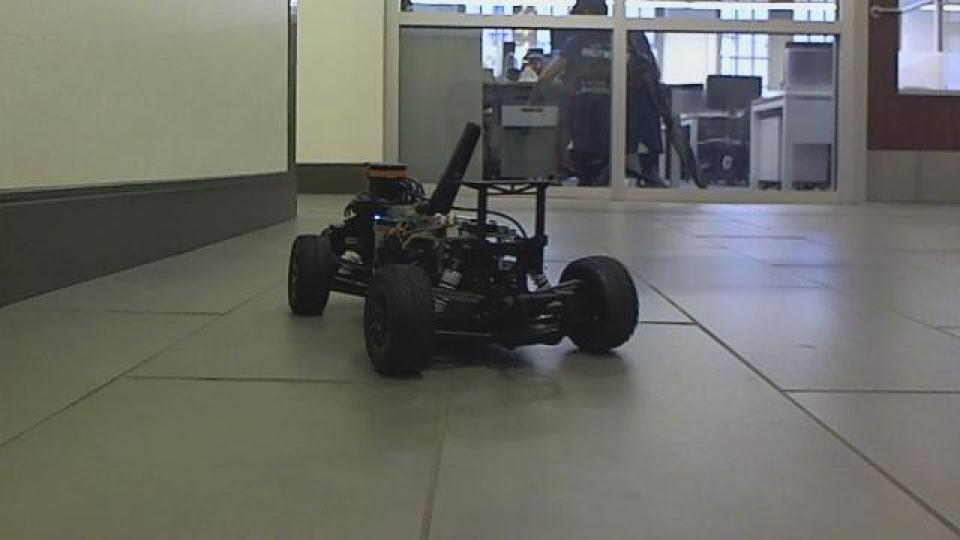car: (284, 119, 642, 380)
